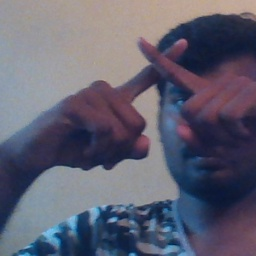X: (100, 31, 223, 141)
